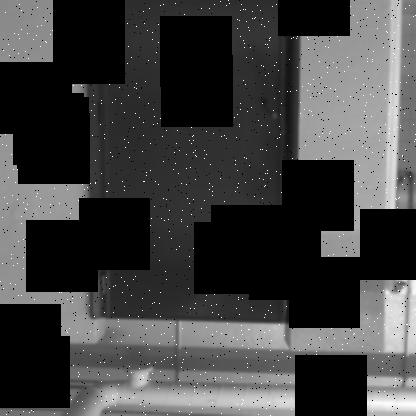Porte: (85, 1, 301, 325)
